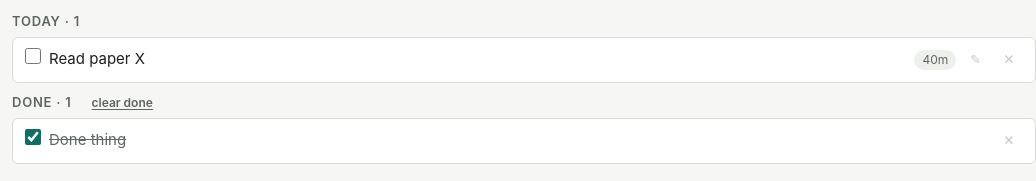
Test: TodayList › [F-030] "clear done" and the ✕ on a done row archive instead of dropping
Click the button with test id "row-remove" in the row of "Done thing": (1009, 141) [995,127,1023,155]
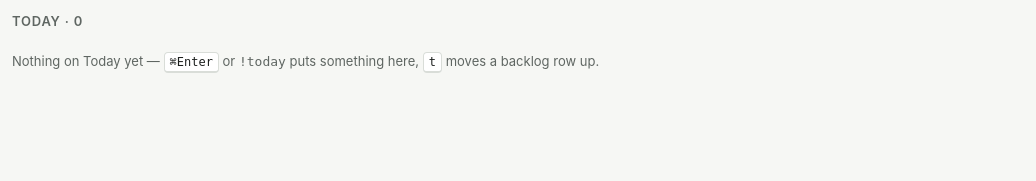
Check: the list with test id "done-section" is gone
